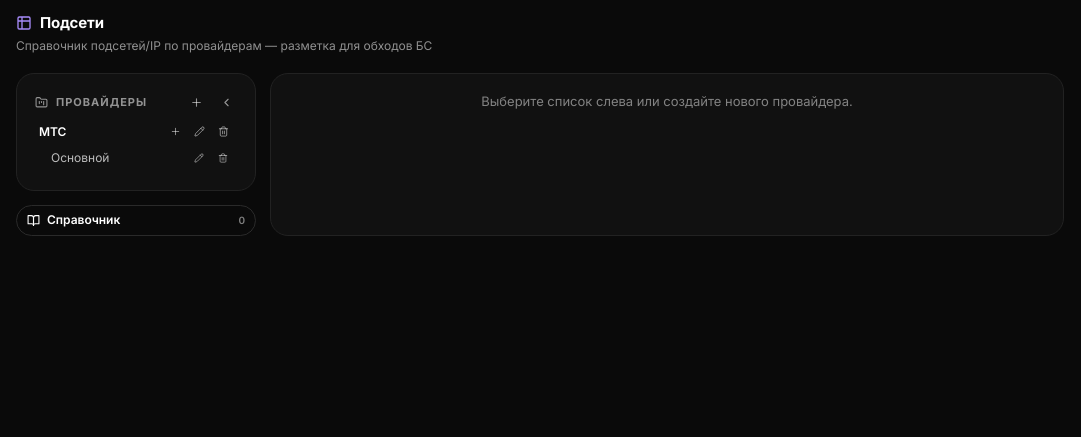
Test: Subnets › результат скана: живые IP → минимальная подсеть (/29 из /24), точечный IP — отдельной записью с chip /32
This screenshot has width=1081, height=437.
Click the text "Основной" at coordinates (80, 157), box left=51, top=150, right=109, bottom=164
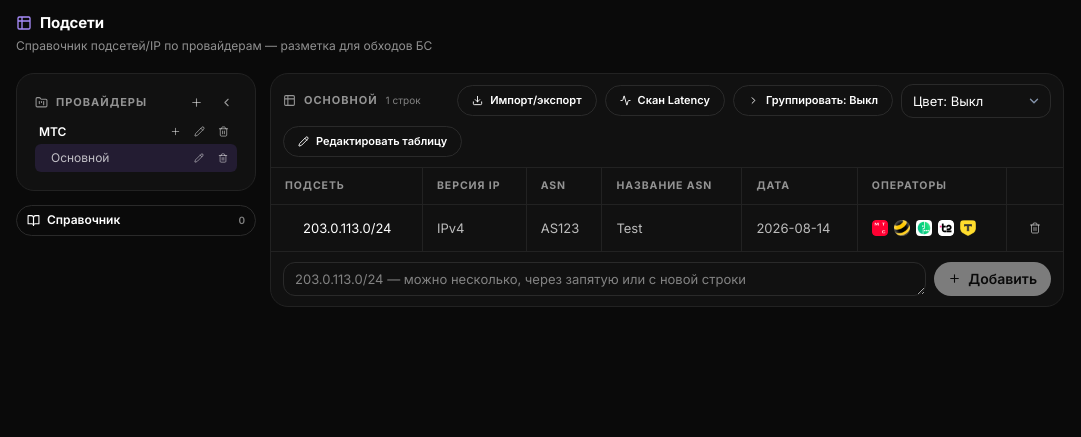
Click the button with test id "latency-scan-toggle" at coordinates (665, 100), box left=605, top=85, right=725, bottom=116
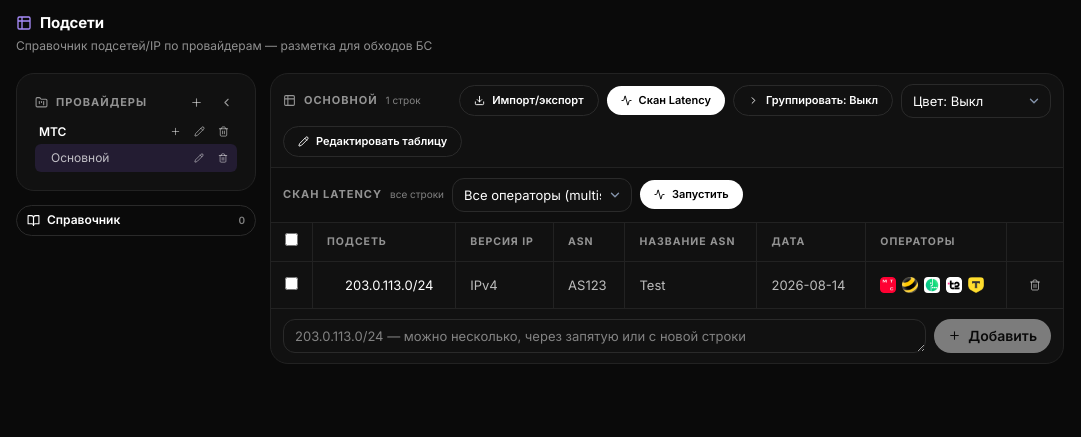
Result: the element with test id "latency-scan-panel" is shown at left=271, top=168, right=1063, bottom=222
Click the button with test id "latency-start" at coordinates (691, 194), box left=640, top=180, right=743, bottom=209
Wait 3500 ms
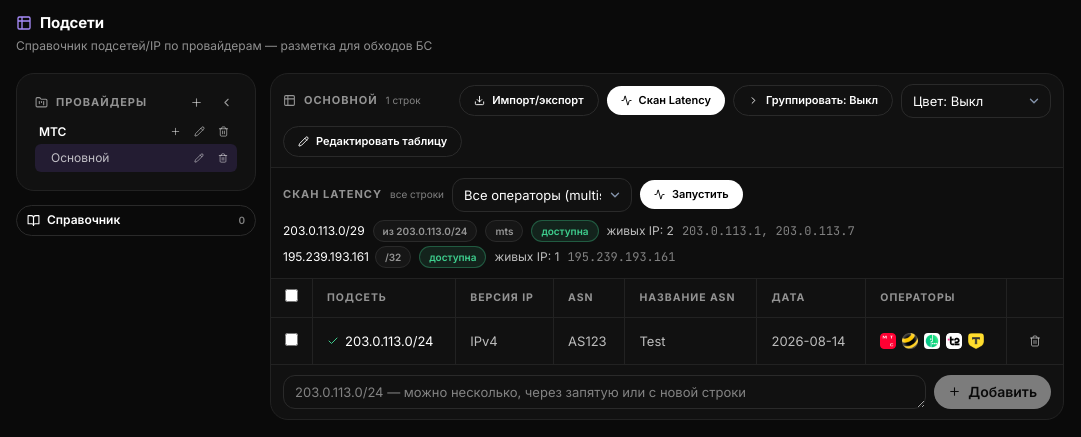
Result: the element with test id "latency-result" shows "203.0.113.0/29" at left=283, top=222, right=365, bottom=238
Result: the text with test id "scan-agg-r1" reads "из 203.0.113.0/24" at left=373, top=220, right=478, bottom=242
Result: the element with test id "latency-result" shows "195.239.193.161" at left=283, top=248, right=369, bottom=264
